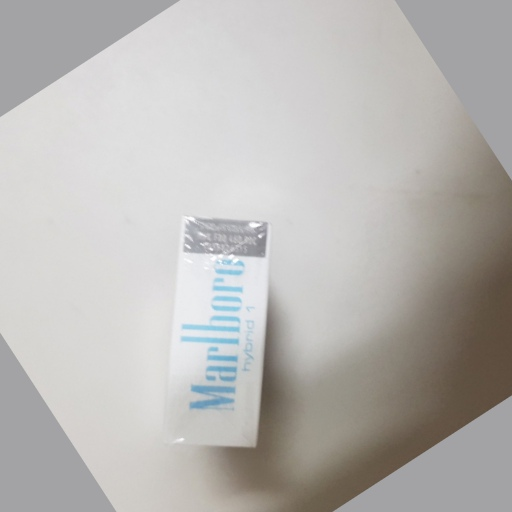Paper_0: (142, 188, 318, 480)
